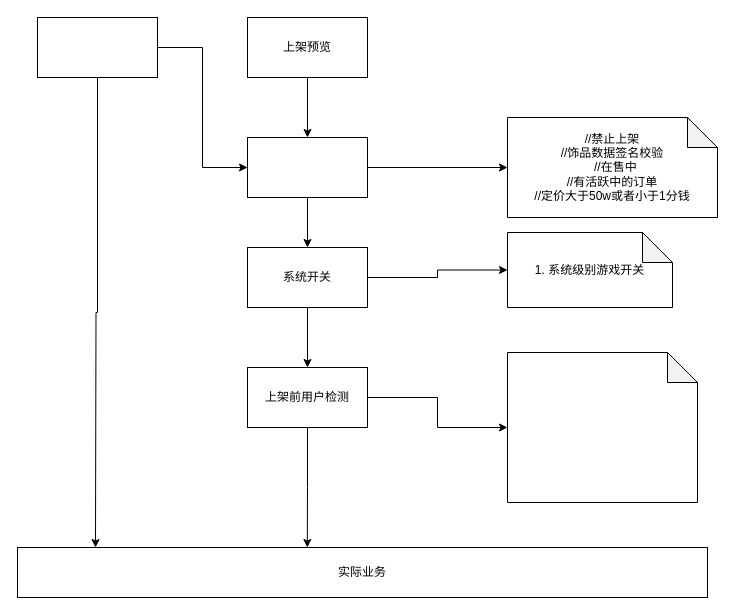
The diagram is 735 pixels wide and 615 high, and some of its shapes have lost their labels. The shapes that lost their labels are listed below. From the top down, each one's centre as x and y in pixels, then its label:
point (97, 47): 上架
point (307, 167): 上架前饰品检测
point (602, 427): 用户是否被ban 总的上架开关 当前游戏是否不能上架 店铺是否被关闭 手机号绑定 steam绑定 交易url apikey 卖家steam账号检测
